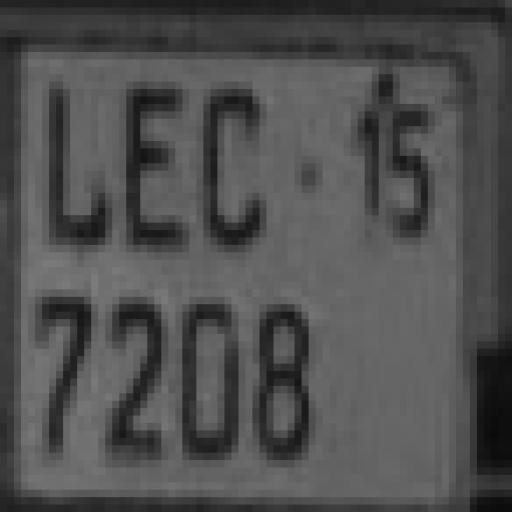0: (173, 286, 245, 478)
2: (110, 290, 165, 458)
7: (25, 280, 99, 455)
8: (256, 283, 323, 481)
C: (198, 59, 269, 248)
E: (126, 61, 190, 256)
L: (42, 72, 118, 252)
